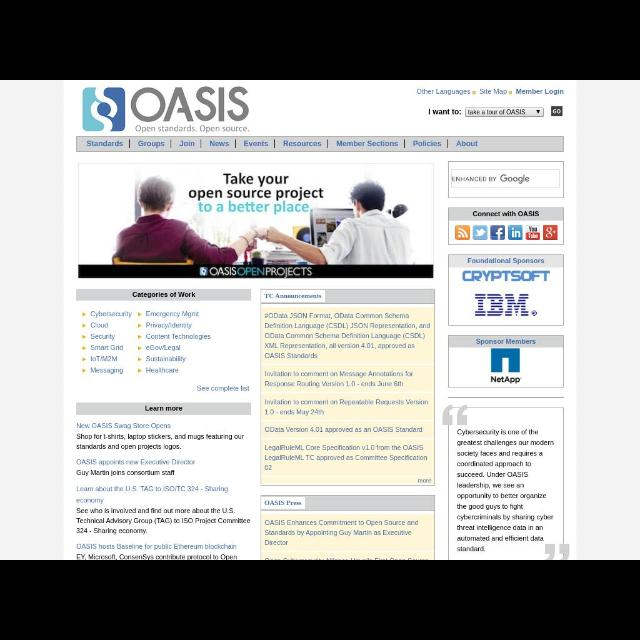icon: (80, 320, 88, 330), (80, 310, 88, 318), (136, 332, 142, 342), (136, 342, 142, 352), (135, 323, 143, 329), (136, 355, 142, 363), (138, 366, 144, 374), (136, 312, 142, 318), (508, 90, 514, 96), (82, 334, 86, 341), (83, 346, 87, 352), (472, 90, 476, 96), (84, 364, 86, 374), (82, 358, 86, 362)
iframe: (448, 160, 564, 198)
image: (78, 164, 434, 278), (130, 85, 248, 121), (78, 88, 128, 132), (470, 292, 536, 318), (460, 268, 552, 284), (484, 348, 524, 384), (442, 402, 470, 426), (545, 544, 569, 558), (524, 225, 542, 242), (453, 224, 471, 240), (472, 225, 488, 241), (508, 226, 522, 242), (490, 226, 504, 240), (544, 225, 556, 241)
multitab: (75, 136, 562, 154), (412, 85, 568, 97)
spinner: (466, 108, 542, 116)
text: (456, 428, 554, 544), (264, 311, 432, 353), (75, 507, 251, 539), (264, 516, 426, 548), (76, 432, 244, 450), (264, 444, 428, 462), (74, 485, 230, 503), (76, 542, 234, 558), (264, 372, 414, 388), (74, 458, 196, 476), (263, 424, 423, 434), (134, 122, 250, 134), (263, 398, 429, 404), (335, 138, 399, 148), (73, 424, 171, 430), (264, 292, 322, 302), (470, 209, 540, 217), (416, 86, 469, 96), (262, 408, 326, 416), (477, 338, 535, 346), (264, 352, 320, 360), (517, 86, 565, 95), (146, 310, 200, 318), (196, 384, 250, 392), (145, 335, 211, 341), (131, 292, 195, 298), (86, 138, 122, 148), (430, 105, 462, 116), (90, 366, 124, 376), (146, 343, 182, 352), (148, 354, 185, 362), (284, 140, 320, 148), (263, 499, 303, 506), (452, 139, 480, 149), (147, 322, 191, 328), (147, 366, 179, 374), (92, 312, 132, 318), (136, 140, 166, 148), (479, 88, 507, 96), (208, 138, 230, 148), (146, 406, 182, 412), (88, 344, 124, 350), (243, 141, 269, 149), (176, 140, 196, 150), (412, 141, 443, 147), (90, 334, 116, 341), (456, 546, 484, 552), (89, 356, 117, 362), (416, 477, 434, 485), (90, 322, 110, 328), (264, 464, 274, 472)
textbutton: (550, 106, 562, 118)
toolbar: (68, 84, 570, 138)
